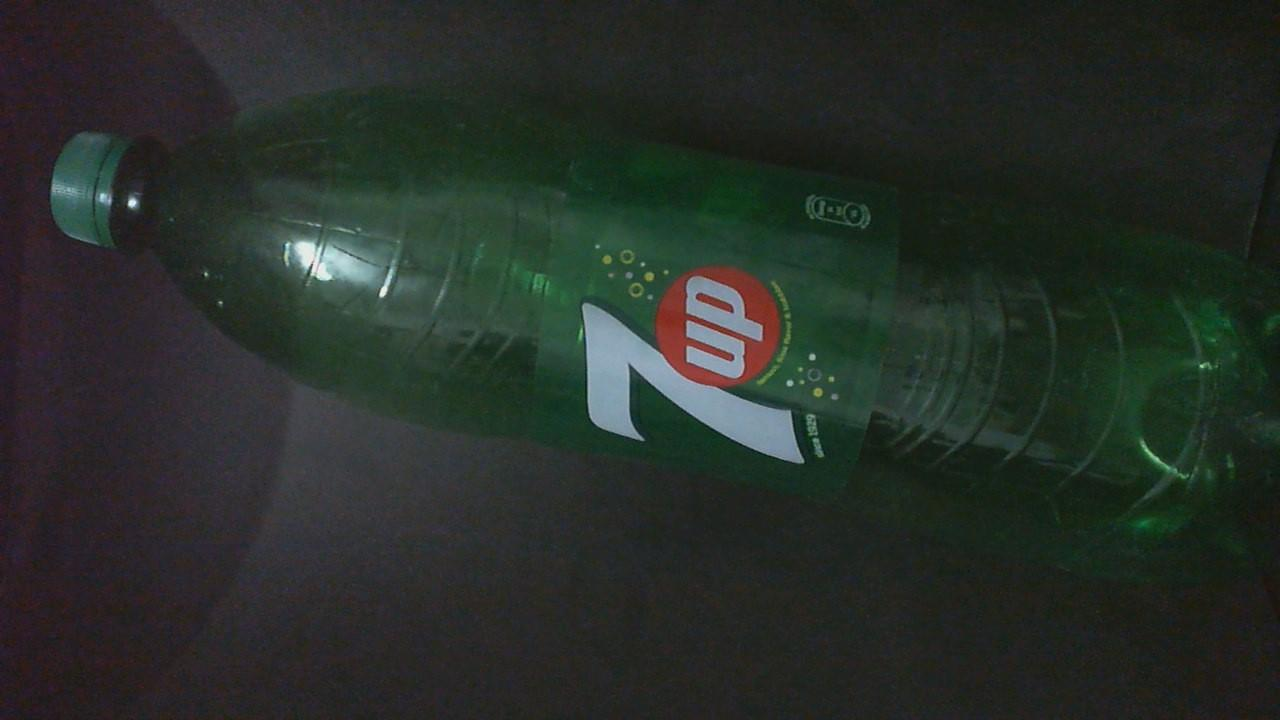Bottle: (50, 89, 1279, 579)
